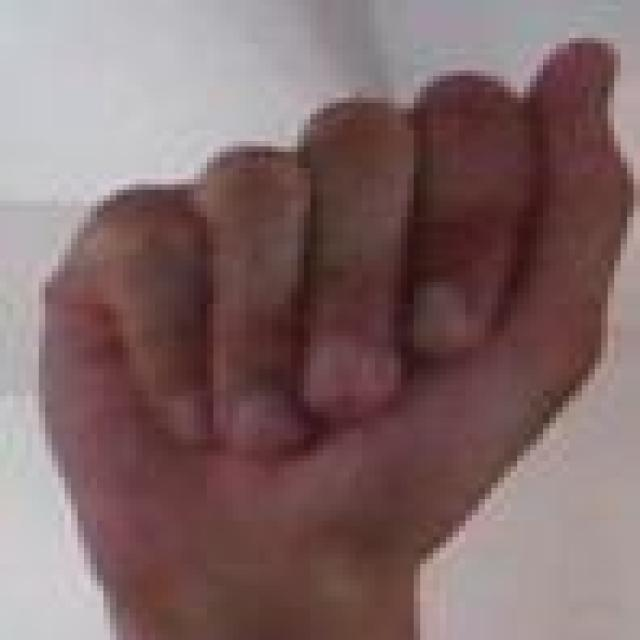A: (12, 9, 640, 616)
